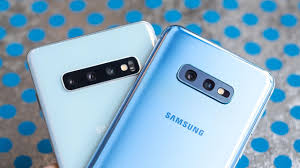samsung: (94, 24, 276, 167)
